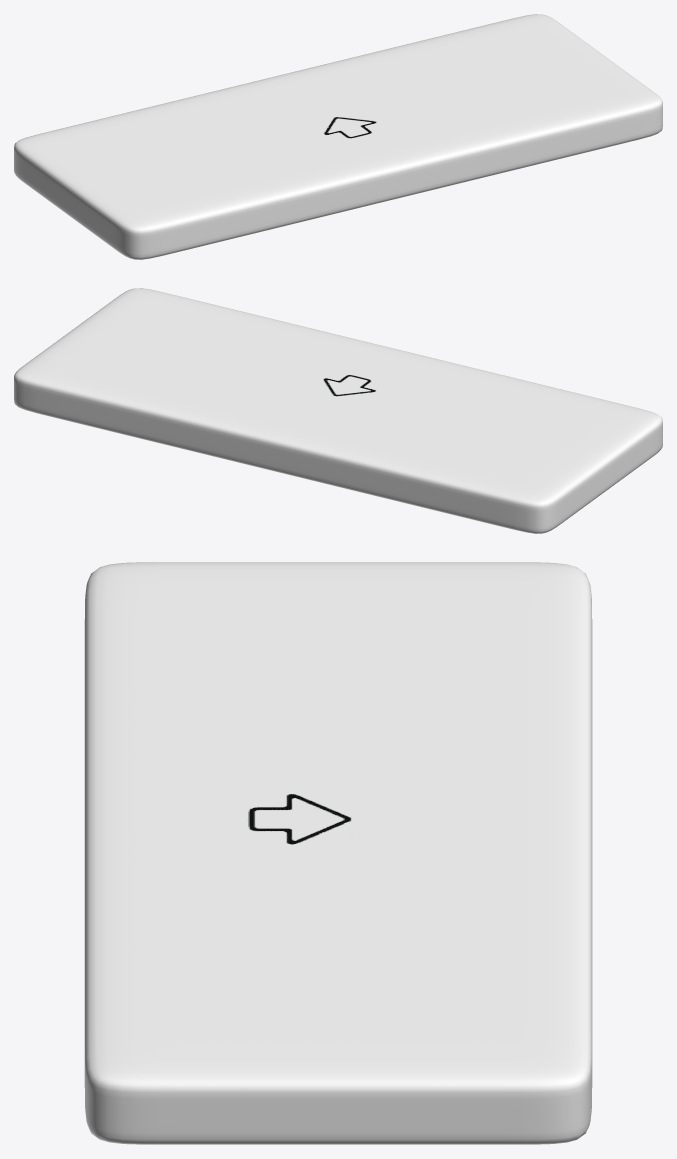
Rendered from 2_left_upcase.fbx.
3 renders of one model, top to bottom at view 1: azimuth 30°, elevation 25°; view 2: azimuth 150°, elevation 25°; view 3: azimuth 270°, elevation 25°, orthographic. The views are drawn at different scales.
Parts seen in each view (by area): view 1: 立方体; view 2: 立方体; view 3: 立方体.
Part boxes in pixels (x1=…): 立方体: x1=14, y1=14, x2=662, y2=259; 立方体: x1=14, y1=288, x2=662, y2=533; 立方体: x1=84, y1=562, x2=592, y2=1144.
Bounding box in the file's own units: 490 × 30 × 200.
1 material, 1 textured.
